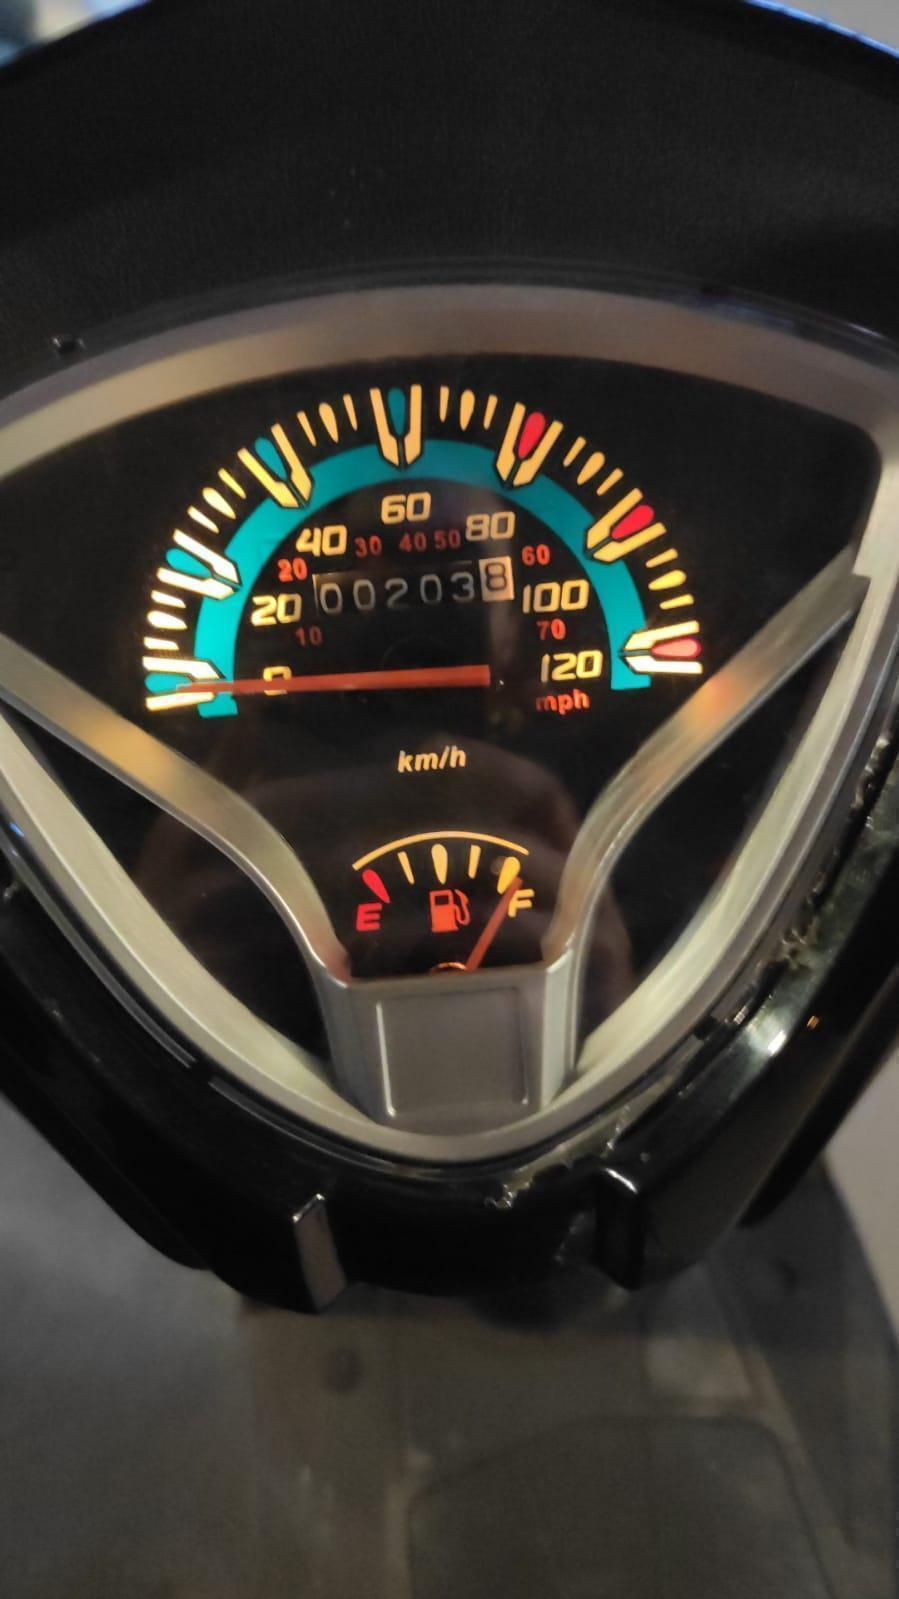0: (416, 572, 446, 606), (318, 580, 345, 614), (351, 579, 377, 612)
2: (384, 577, 411, 612)
3: (450, 571, 476, 603)
8: (483, 561, 512, 596)
odometer: (310, 553, 520, 620)
